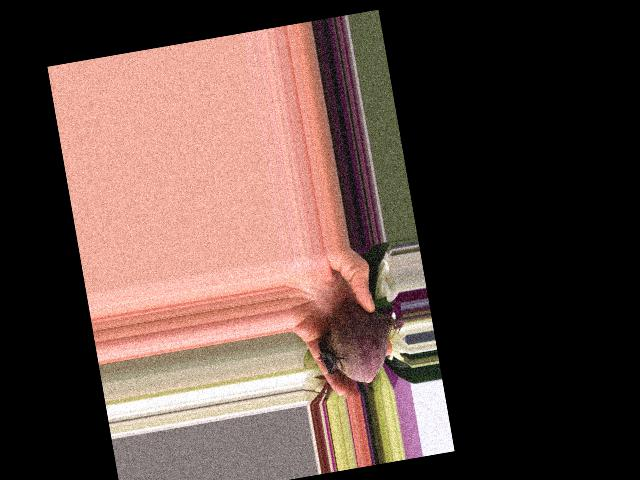beet: (309, 295, 412, 389)
